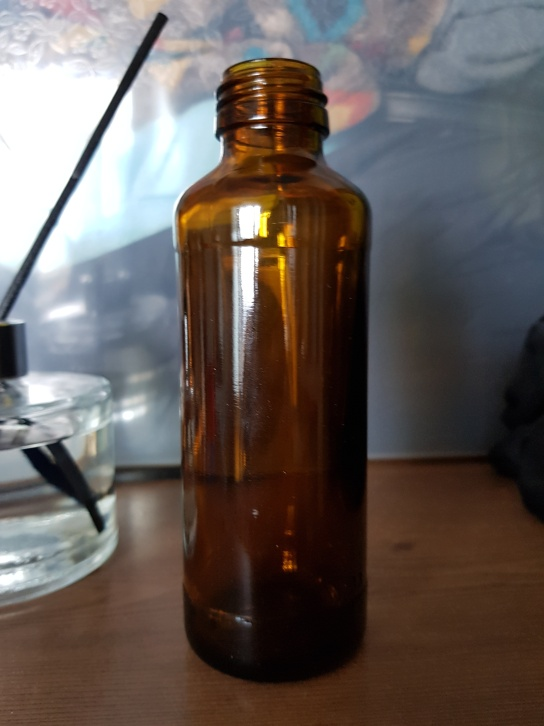Glass: (179, 58, 370, 683)
